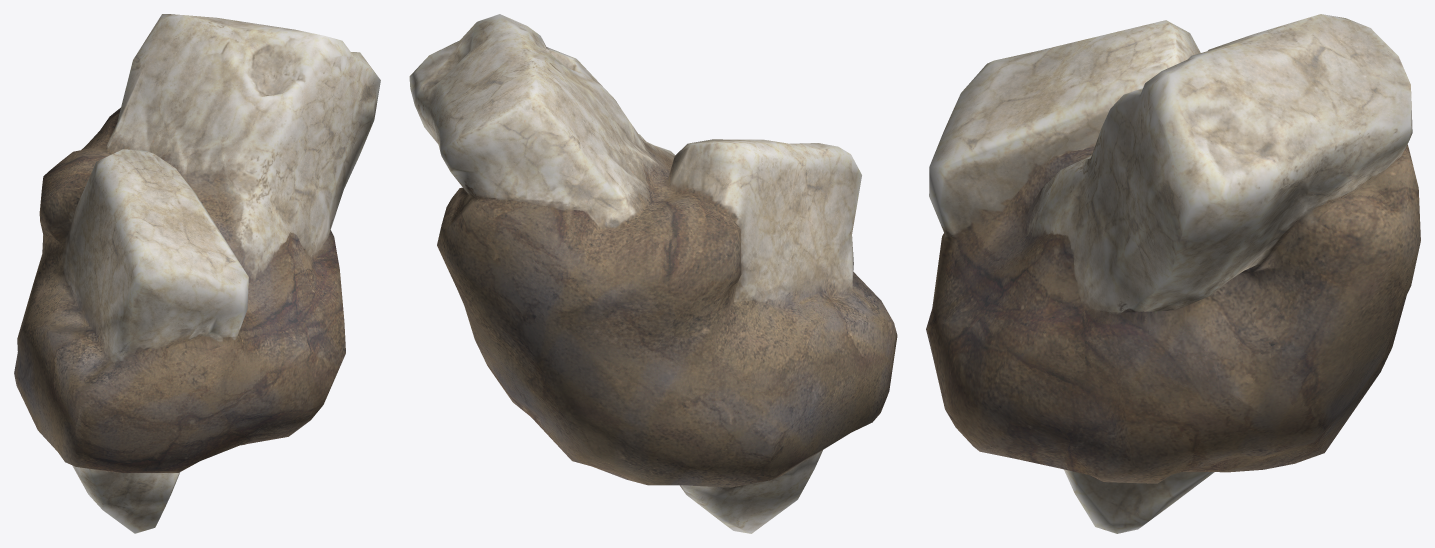
File: SM_StoneNode_3.fbx
3 views of the same model, side by side, from view 1: azimuth 30°, elevation 25°; view 2: azimuth 150°, elevation 25°; view 3: azimuth 270°, elevation 25° (orthographic). The views are drawn at different scales.
Visible parts, largest first — view 1: SM_StoneNode_3_LOD0; view 2: SM_StoneNode_3_LOD0; view 3: SM_StoneNode_3_LOD0.
Boxes of the visible parts, <box> form: SM_StoneNode_3_LOD0: <box>14,14,380,533</box>; SM_StoneNode_3_LOD0: <box>409,14,897,533</box>; SM_StoneNode_3_LOD0: <box>926,14,1420,533</box>.
Size of what is drawn, in the model's own units: 1.16 by 1.32 by 0.9873.
